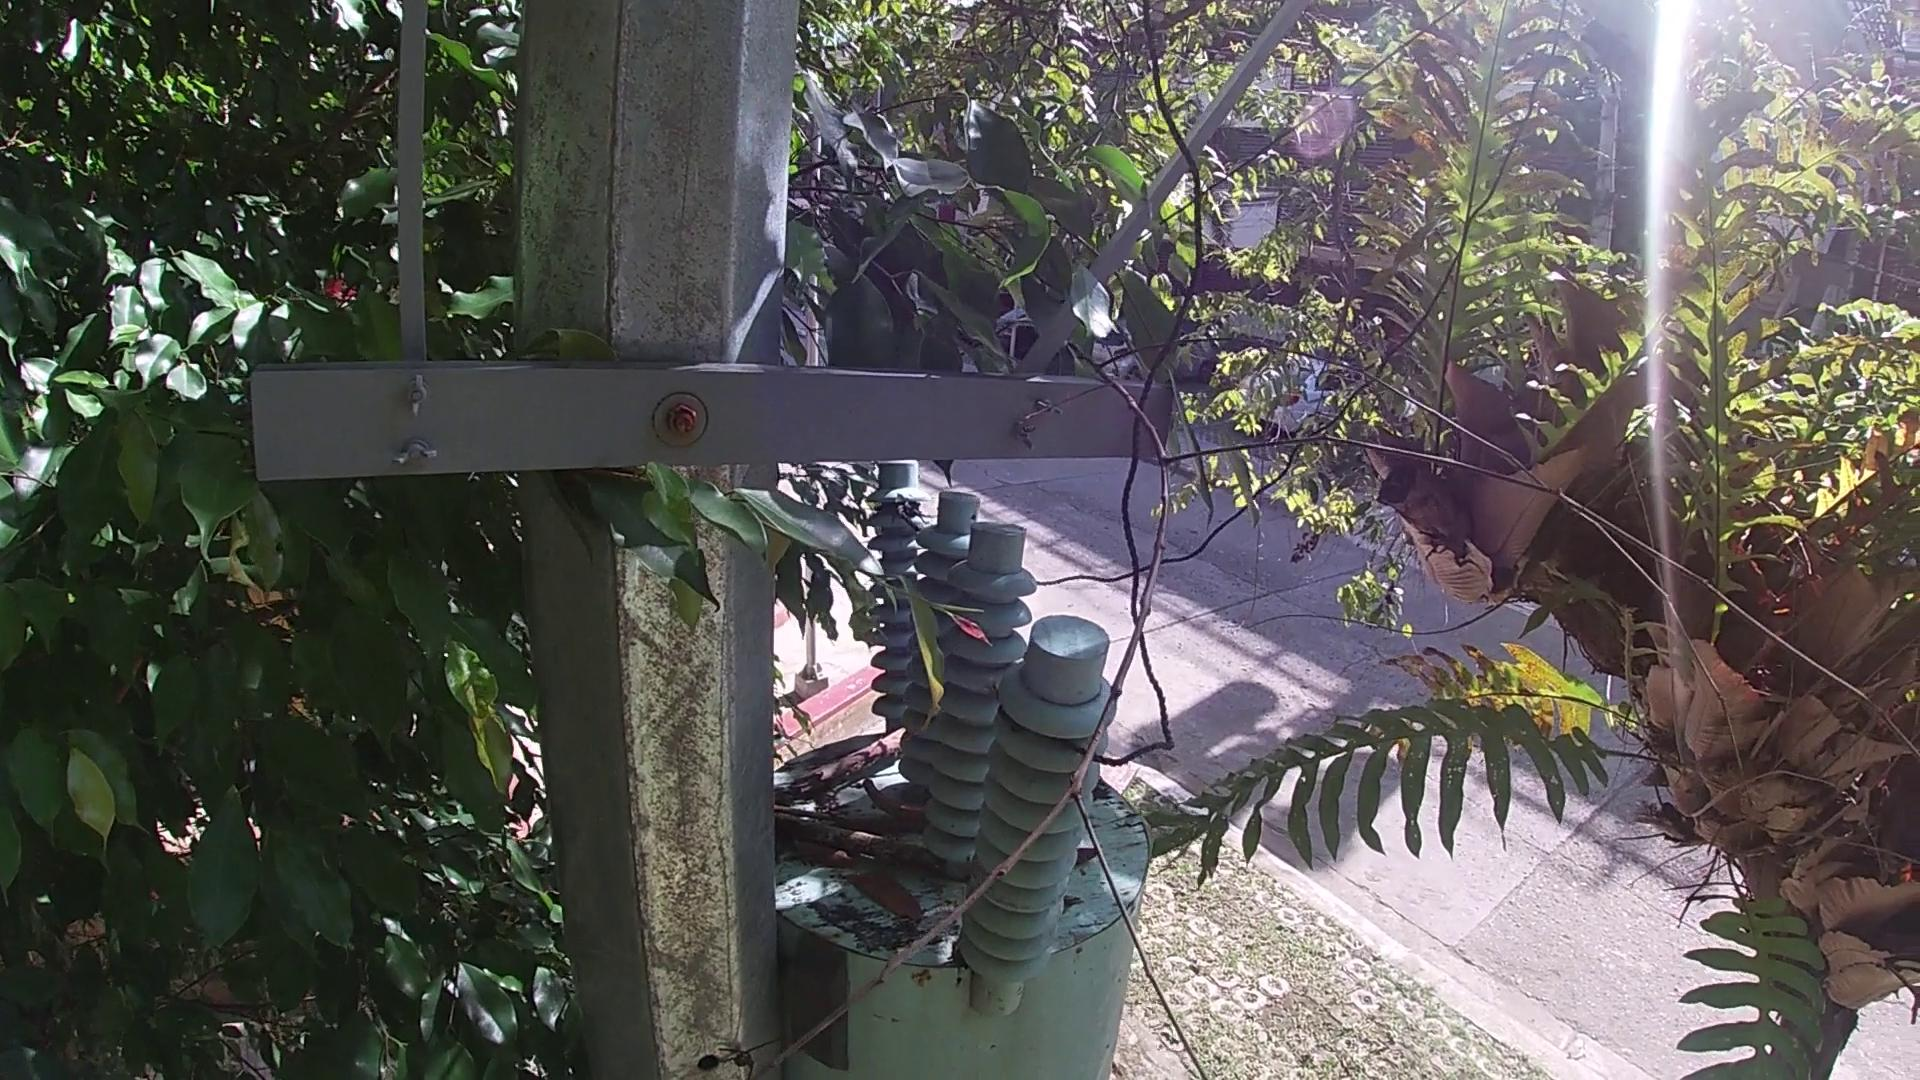leaf: (833, 869, 931, 924), (793, 837, 852, 866), (1071, 847, 1098, 870)
tree branch: (746, 331, 1920, 1077), (775, 810, 973, 881), (793, 724, 909, 802)
